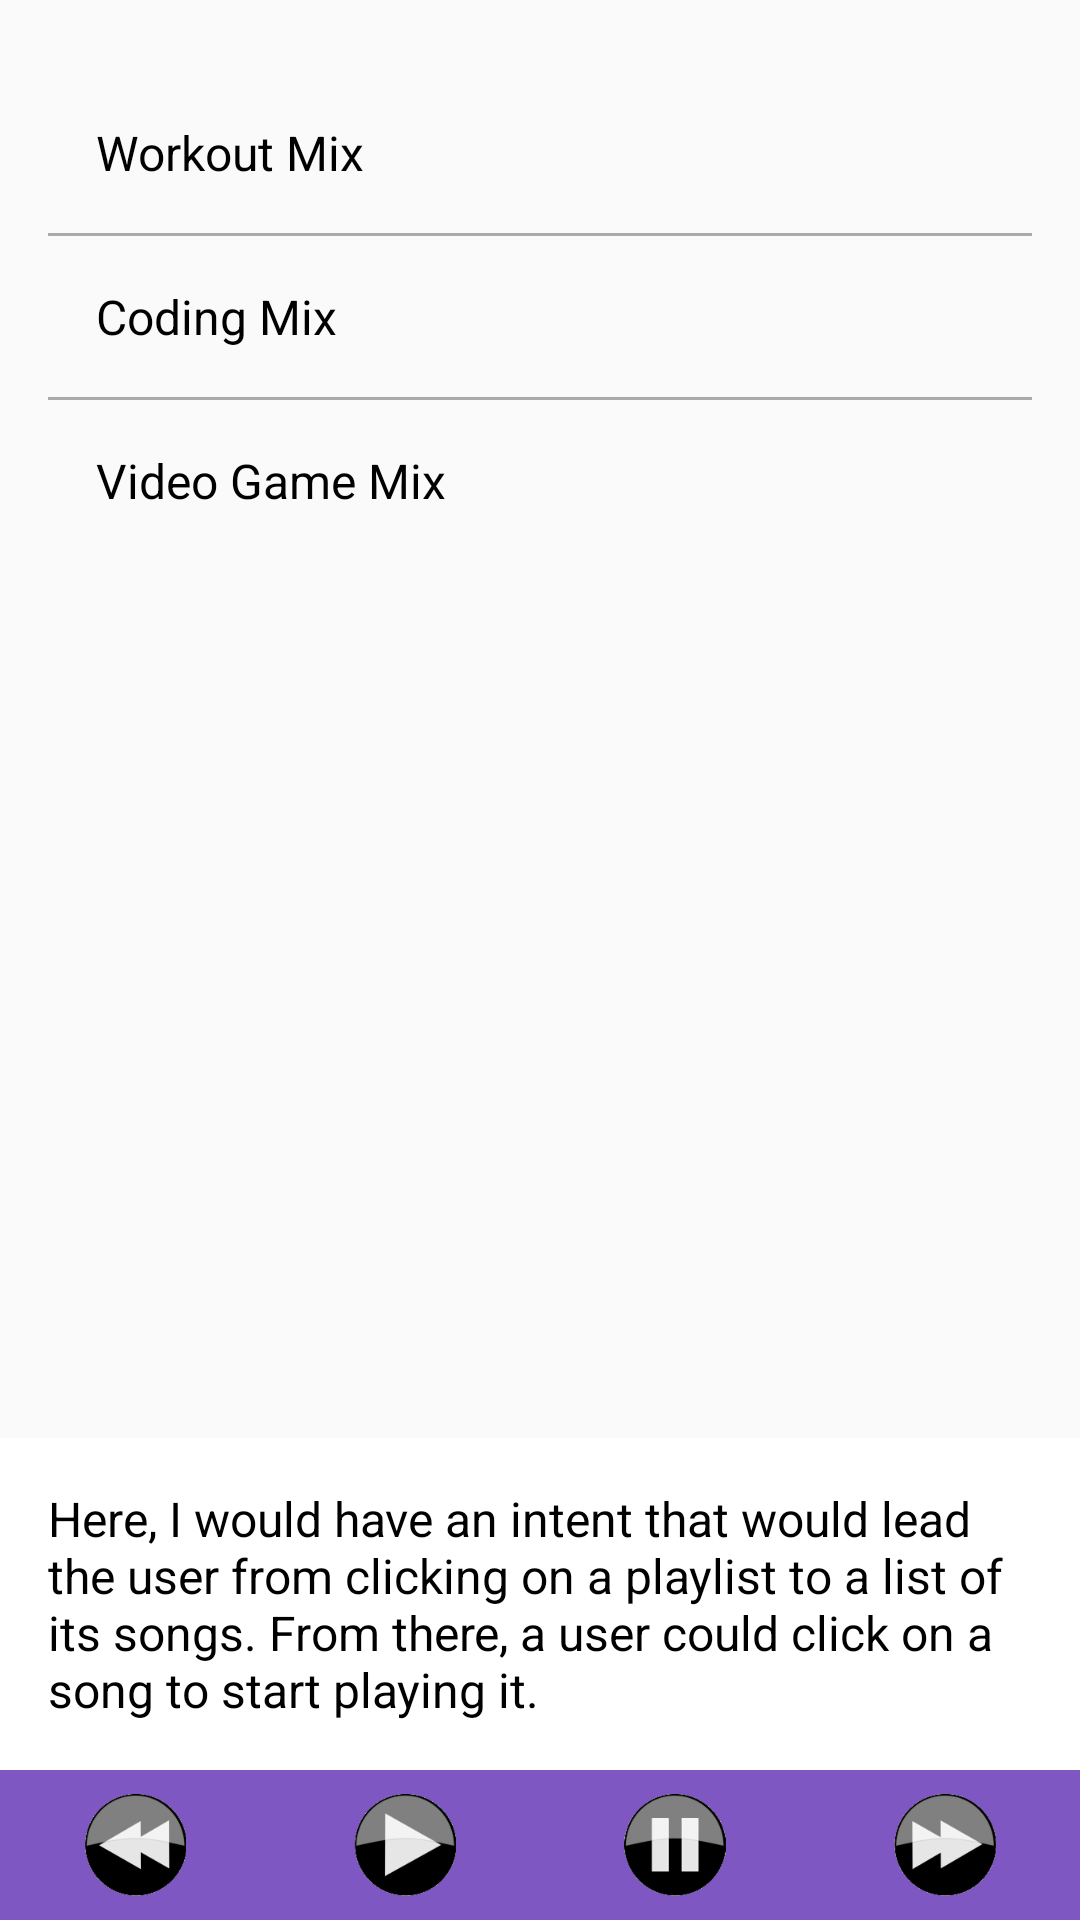

Icon bounding boxes for this 1080 x 1920 phone screenshot, format (x1, y1, x2, y2):
back: (85, 1794, 186, 1896)
forward: (894, 1794, 996, 1896)
pause: (624, 1794, 726, 1896)
